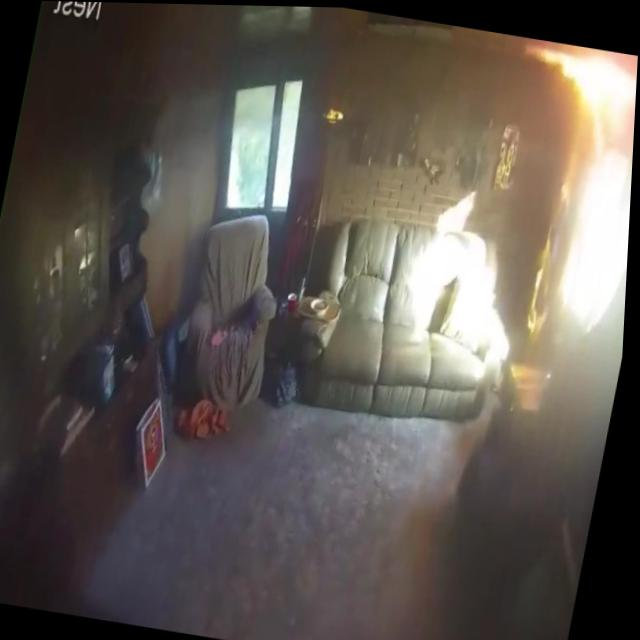fire: (524, 147, 584, 343), (518, 40, 639, 126)
